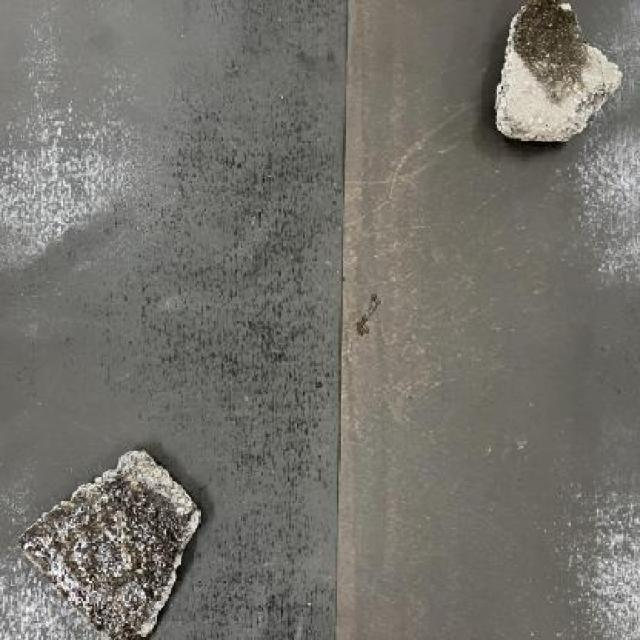Road Debris: (19, 469, 192, 640), (507, 0, 590, 105)
